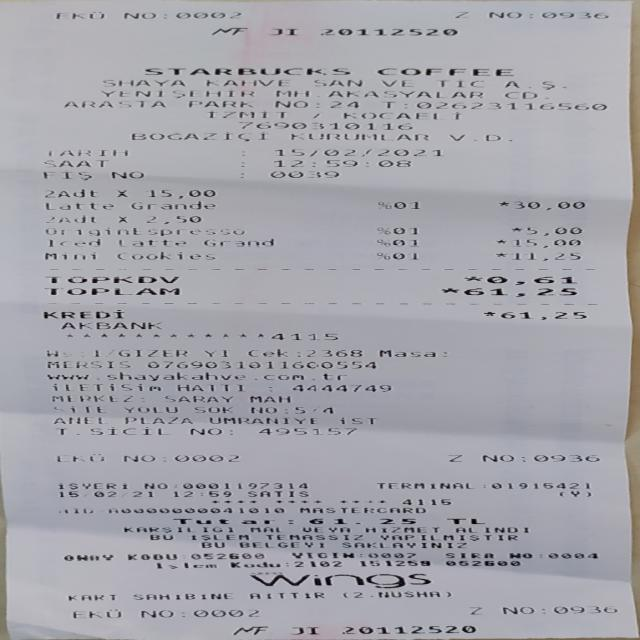text: (45, 371, 345, 381), (248, 572, 430, 588), (144, 66, 352, 76), (419, 100, 604, 111), (275, 89, 481, 98), (146, 360, 374, 368), (47, 227, 246, 236), (291, 131, 426, 143), (131, 130, 264, 142), (108, 506, 282, 515), (238, 121, 410, 130), (275, 148, 440, 157), (100, 89, 248, 98), (376, 67, 509, 76), (299, 506, 425, 515), (463, 287, 574, 297), (378, 533, 516, 541), (320, 27, 456, 35), (43, 287, 179, 295), (338, 625, 474, 633), (116, 250, 213, 261), (45, 275, 177, 283), (174, 481, 306, 489), (343, 111, 458, 120), (340, 541, 465, 549), (64, 98, 163, 108), (123, 525, 231, 534), (272, 160, 410, 167), (208, 416, 315, 425), (57, 427, 173, 435), (204, 77, 286, 88), (59, 321, 158, 330), (485, 275, 574, 285), (290, 383, 388, 392), (340, 590, 450, 598), (52, 383, 160, 391), (502, 310, 588, 320), (115, 236, 185, 248), (202, 236, 272, 248), (490, 481, 595, 489), (102, 77, 185, 87), (130, 200, 213, 210), (512, 237, 578, 249), (42, 308, 121, 318), (285, 552, 416, 558), (258, 427, 355, 435), (265, 533, 362, 541), (60, 490, 156, 498), (117, 348, 186, 359), (239, 540, 323, 549), (376, 481, 470, 489), (150, 188, 212, 200), (450, 131, 510, 143), (514, 200, 583, 210), (508, 250, 577, 260), (207, 110, 282, 119), (46, 360, 128, 368), (50, 394, 130, 402), (173, 453, 237, 463), (357, 559, 428, 568), (188, 552, 267, 560), (188, 99, 251, 109), (176, 516, 238, 526), (378, 348, 434, 359), (305, 348, 360, 359), (44, 201, 111, 210), (240, 592, 326, 599), (154, 560, 214, 570), (176, 383, 242, 392), (132, 593, 231, 599), (364, 526, 437, 534), (456, 526, 528, 534), (46, 237, 98, 248), (46, 187, 93, 199), (542, 11, 604, 20), (501, 80, 563, 89), (525, 226, 580, 236), (43, 250, 92, 261), (312, 78, 360, 89), (124, 416, 190, 424), (190, 608, 256, 616), (272, 333, 338, 341), (140, 215, 198, 224), (43, 158, 107, 166), (533, 454, 597, 462), (551, 605, 615, 613), (41, 170, 91, 180), (308, 516, 358, 526), (53, 404, 102, 414), (175, 11, 244, 18), (57, 482, 126, 489), (246, 490, 306, 498), (444, 550, 492, 560), (444, 560, 523, 566), (439, 78, 482, 89), (124, 405, 176, 414), (164, 395, 230, 402), (171, 490, 228, 498), (401, 497, 450, 506), (125, 552, 174, 561), (229, 560, 278, 569), (63, 552, 111, 561), (205, 26, 248, 36), (52, 12, 105, 20), (266, 171, 336, 177), (53, 454, 105, 462), (40, 215, 99, 222), (57, 149, 115, 156), (544, 552, 601, 559), (72, 609, 120, 617), (54, 416, 101, 424), (302, 526, 348, 534), (292, 560, 338, 568), (242, 516, 278, 526), (446, 516, 482, 526), (246, 348, 286, 357), (294, 406, 339, 414), (108, 170, 143, 180), (379, 516, 414, 526), (193, 405, 230, 414), (275, 99, 306, 109), (487, 10, 520, 19), (391, 199, 418, 210), (65, 594, 114, 600), (56, 507, 98, 514), (382, 78, 411, 88), (230, 626, 266, 634), (554, 490, 594, 497), (334, 418, 380, 424), (250, 395, 289, 402), (124, 453, 154, 462), (118, 11, 156, 18), (138, 609, 171, 617), (269, 28, 302, 36), (330, 100, 356, 110), (504, 90, 536, 98), (200, 349, 232, 357), (482, 454, 513, 462), (501, 606, 532, 614), (288, 625, 315, 634), (190, 427, 220, 435), (506, 550, 530, 560), (246, 406, 276, 414), (250, 526, 279, 534), (43, 349, 70, 357), (140, 482, 167, 489), (440, 286, 458, 296), (150, 532, 172, 540), (201, 540, 223, 548), (393, 227, 414, 235), (464, 274, 479, 284), (117, 214, 129, 224), (467, 606, 480, 614), (510, 226, 520, 236), (454, 10, 466, 18), (480, 311, 498, 316), (78, 348, 86, 359), (449, 454, 460, 462), (495, 201, 509, 207), (375, 227, 384, 236), (385, 100, 393, 110), (482, 481, 492, 489), (376, 250, 383, 261), (107, 348, 114, 359), (527, 11, 536, 19), (405, 100, 412, 110), (117, 188, 124, 198), (490, 239, 504, 244), (378, 199, 384, 210), (495, 252, 506, 258), (162, 11, 171, 18), (161, 453, 168, 462), (137, 394, 144, 402), (284, 406, 291, 414), (178, 609, 184, 617), (238, 150, 246, 156), (236, 171, 242, 178), (540, 605, 544, 614), (520, 454, 524, 462), (239, 160, 242, 167), (443, 349, 445, 359), (538, 550, 540, 560), (267, 383, 269, 392), (230, 427, 232, 435), (297, 348, 298, 359), (316, 99, 317, 109), (546, 90, 546, 98)
